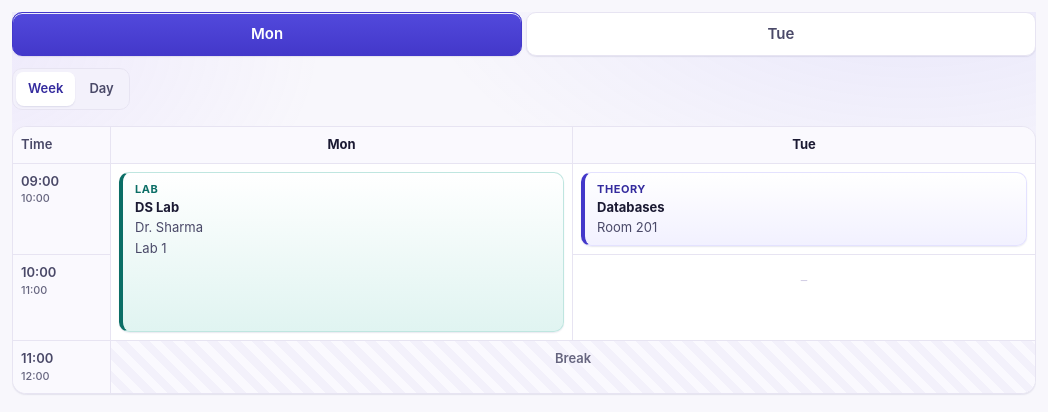
Test case: WeeklyTimetable › steps through days with previous/next and wraps around
The image size is (1048, 412).
Click the tab "Mon" at (267,34), box [12,12,522,56]
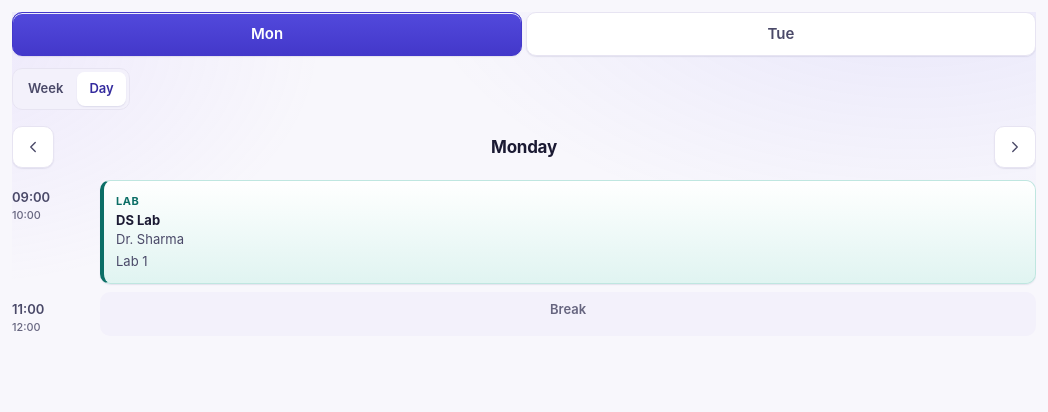
Now the heading "Monday" is shown, box [491,136,557,158]
Click the button named "Next day" at (1015,147), box [994,126,1036,168]
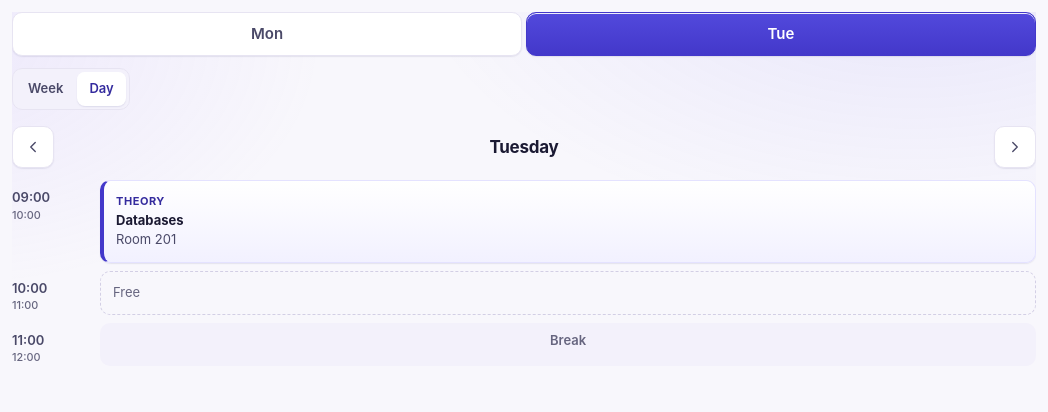
Now the heading "Tuesday" is shown, box [490,136,559,158]
Click the button named "Next day" at (1015,147), box [994,126,1036,168]
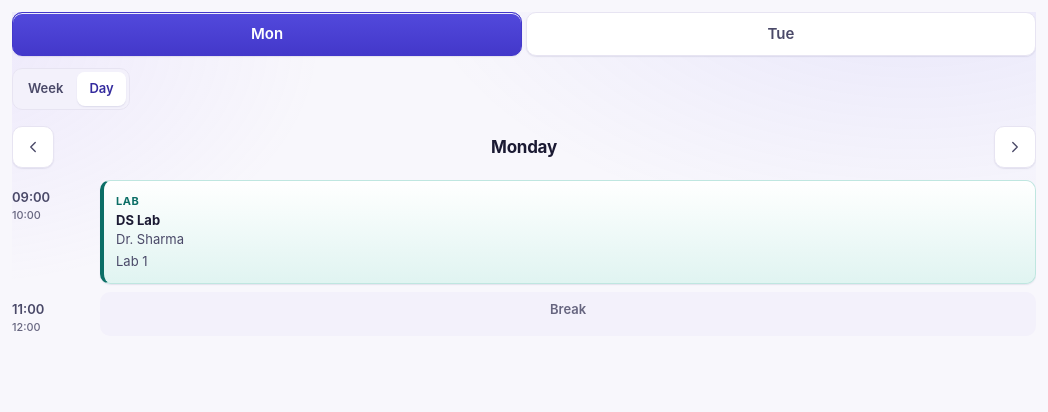
Now the heading "Monday" is shown, box [491,136,557,158]
